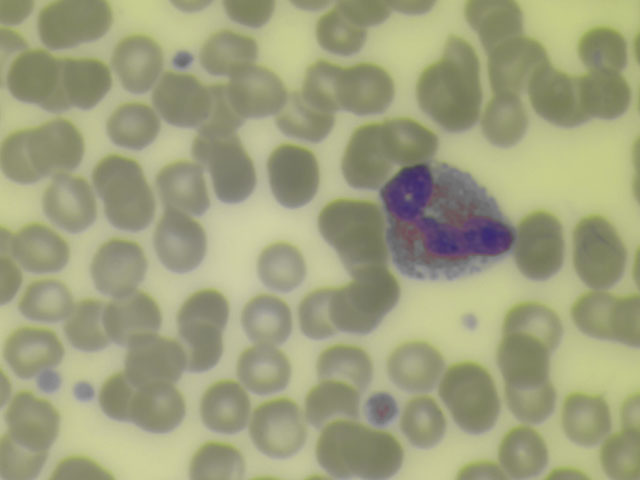Platelets: (361, 394, 403, 428), (70, 380, 98, 405), (171, 47, 196, 72), (38, 367, 62, 393), (459, 310, 481, 332)
RBC: (448, 360, 497, 424), (109, 37, 162, 89), (40, 1, 99, 46), (314, 428, 364, 480), (256, 242, 306, 293), (531, 75, 581, 126), (578, 70, 628, 121), (578, 24, 628, 75), (480, 95, 530, 146), (416, 64, 466, 115), (154, 216, 204, 267), (158, 162, 208, 213), (268, 150, 318, 201), (210, 151, 260, 202), (188, 119, 238, 170), (196, 82, 246, 133), (157, 75, 207, 126), (281, 91, 331, 142), (302, 60, 352, 111), (343, 65, 393, 116), (235, 68, 285, 119), (255, 405, 305, 456), (199, 382, 249, 433), (6, 397, 56, 448), (8, 324, 58, 375), (241, 297, 291, 348), (177, 321, 227, 372), (99, 372, 149, 423), (133, 384, 184, 434), (130, 334, 180, 385), (107, 292, 157, 343), (59, 300, 109, 351), (102, 179, 152, 230), (94, 241, 144, 292), (21, 277, 71, 328), (15, 222, 65, 273), (44, 179, 94, 230), (111, 102, 161, 153), (33, 118, 83, 169), (60, 59, 110, 110), (9, 52, 59, 103), (568, 290, 618, 341), (561, 391, 611, 442), (501, 425, 551, 476), (506, 374, 556, 425), (512, 299, 562, 350), (499, 334, 549, 385), (401, 398, 451, 449), (319, 342, 369, 393), (309, 383, 359, 434), (391, 340, 441, 391), (578, 236, 628, 287), (514, 220, 564, 271), (323, 193, 373, 244), (338, 232, 388, 283), (334, 280, 384, 331), (299, 291, 349, 342), (341, 127, 391, 178), (387, 116, 437, 167), (499, 37, 549, 88), (445, 33, 486, 94), (315, 10, 368, 57), (242, 346, 292, 395), (349, 434, 401, 480), (1, 428, 44, 480), (1, 128, 43, 181), (188, 443, 243, 480), (201, 35, 254, 73), (600, 432, 640, 480), (471, 1, 522, 37), (181, 287, 230, 322), (94, 157, 141, 192), (607, 298, 640, 347), (1, 29, 30, 83), (340, 1, 394, 29), (52, 457, 108, 480), (227, 1, 276, 24), (455, 458, 504, 480), (1, 1, 38, 30), (1, 259, 20, 301)
WBC: (379, 159, 516, 291)
